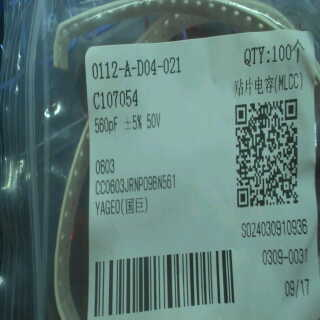560pF: (91, 114, 124, 136)
